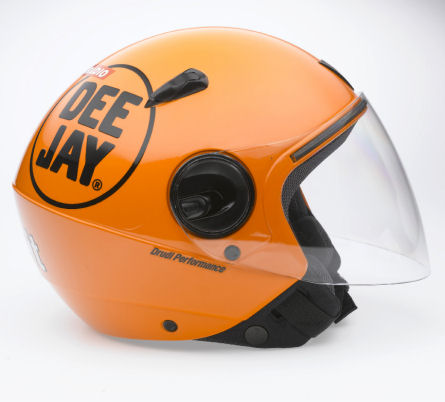helmet: (35, 36, 391, 330)
